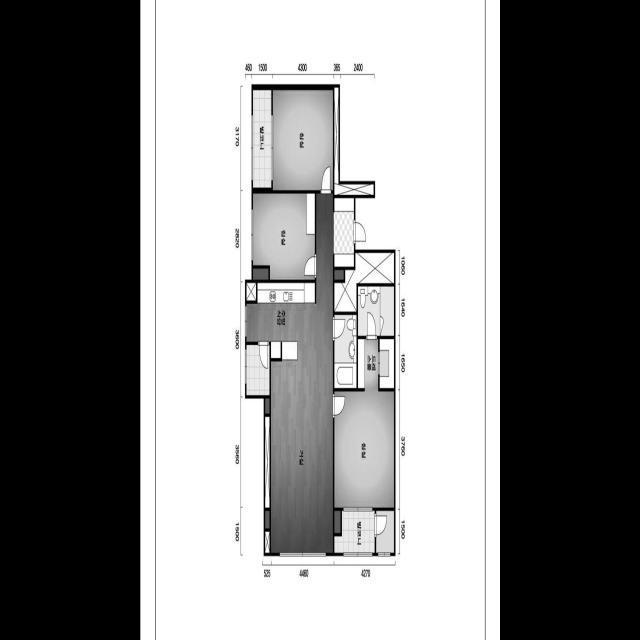background: (140, 0, 500, 640)
space_balconi: (252, 90, 271, 188), (334, 511, 374, 553), (246, 345, 269, 395)
space_bedroom: (334, 392, 394, 508), (272, 89, 333, 190), (253, 193, 315, 280)
space_dressroom: (358, 339, 378, 391), (379, 339, 394, 388)
space_front: (332, 197, 354, 267)
space_kitchen: (246, 283, 315, 361)
space_living_room: (271, 193, 333, 553)
space_other: (334, 87, 373, 195), (334, 253, 394, 312), (376, 510, 394, 553), (265, 416, 269, 508), (246, 283, 256, 301), (253, 269, 268, 280), (334, 511, 340, 533), (334, 270, 343, 280), (265, 532, 269, 553), (265, 511, 269, 529), (265, 398, 269, 414)
space_toilet: (357, 286, 394, 336), (334, 315, 356, 388)
